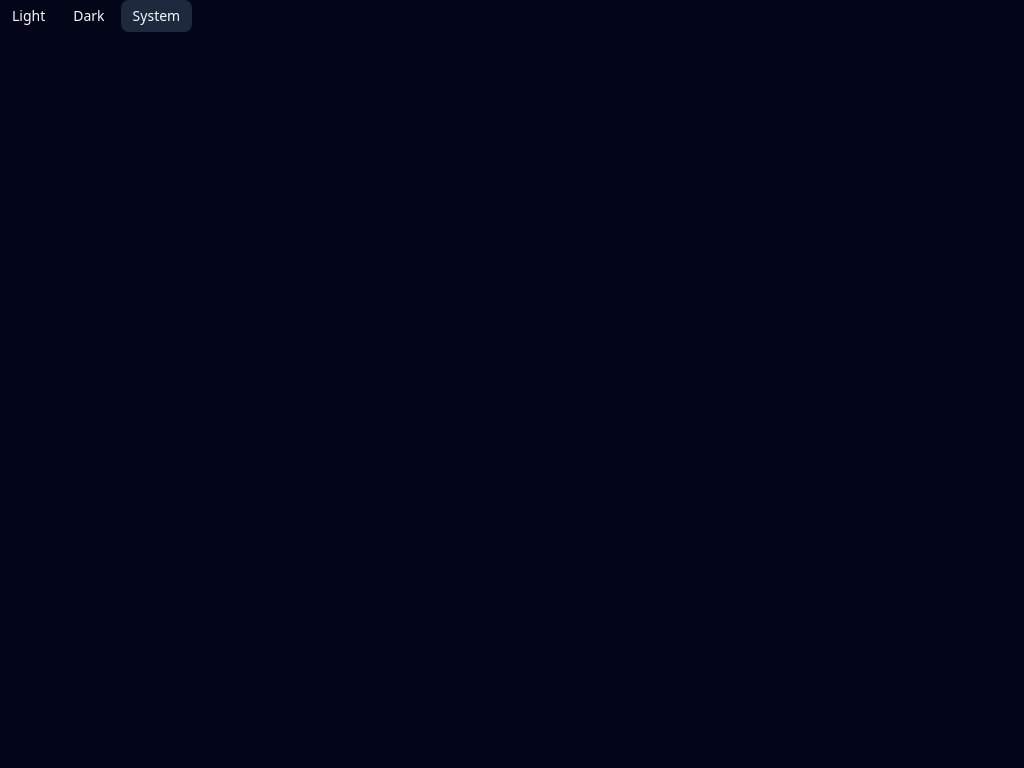
Scenario: a choice is shown at once and remembered for the next visit
Later steps or results of the test are not shown.
Click the button "Light" at (29, 16), box [0,0,57,32]
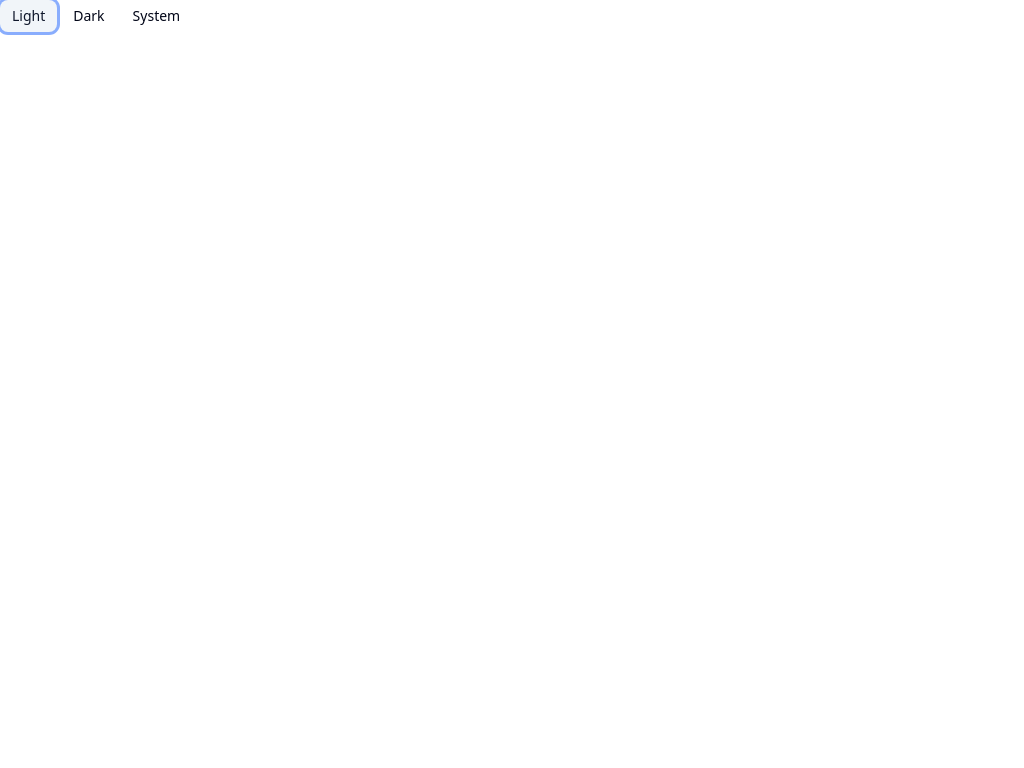
Expected: the button "Light" is pressed, [0,0,57,32]
